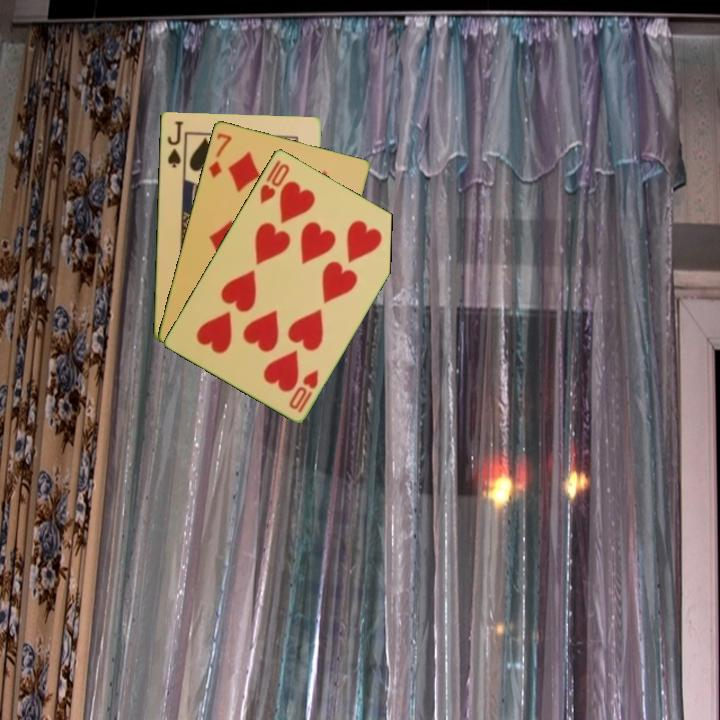10h: (256, 156, 292, 206), (285, 366, 321, 416)
7d: (205, 129, 235, 180)
Js: (164, 117, 185, 170)
